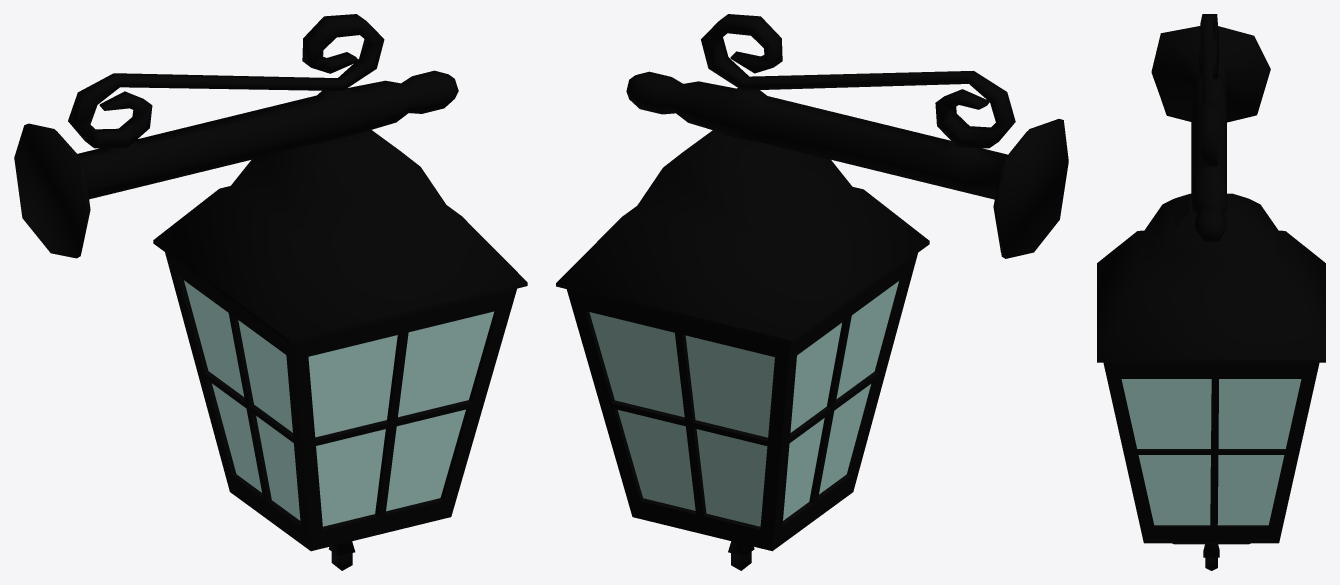
The model's file is Lantern2.fbx.
The picture shows the model from 3 angles, left to right: view 1: azimuth 30°, elevation 25°; view 2: azimuth 150°, elevation 25°; view 3: azimuth 270°, elevation 25°; orthographic projection. The views are drawn at different scales.
Visible parts, largest first — view 1: Cube.049; view 2: Cube.049; view 3: Cube.049.
Boxes of the visible parts, x1,y1,x2,y2 form: Cube.049: [14, 14, 527, 570]; Cube.049: [556, 14, 1068, 570]; Cube.049: [1097, 14, 1325, 570].
Size of the model in its own units: 249 by 144 by 322.
